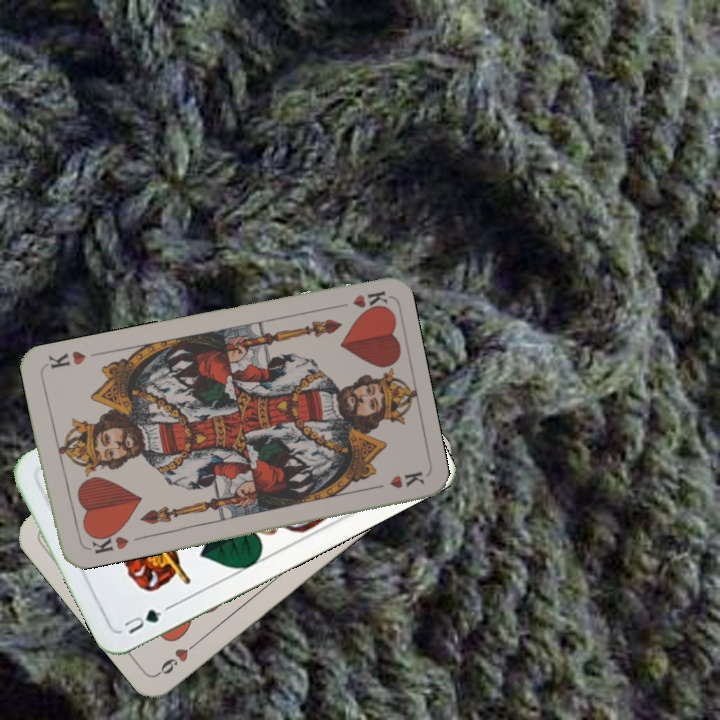GU: (120, 605, 165, 637)
H9: (154, 635, 203, 677)
HK: (328, 286, 389, 315), (81, 526, 131, 557)
